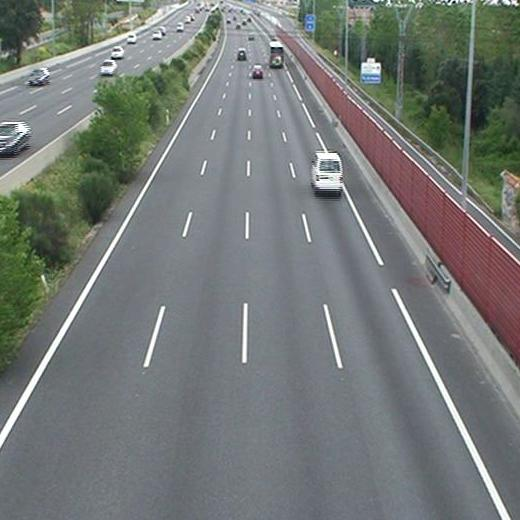bus: (269, 41, 284, 67)
car: (253, 65, 263, 77), (236, 49, 245, 59)
van: (311, 153, 342, 192)
